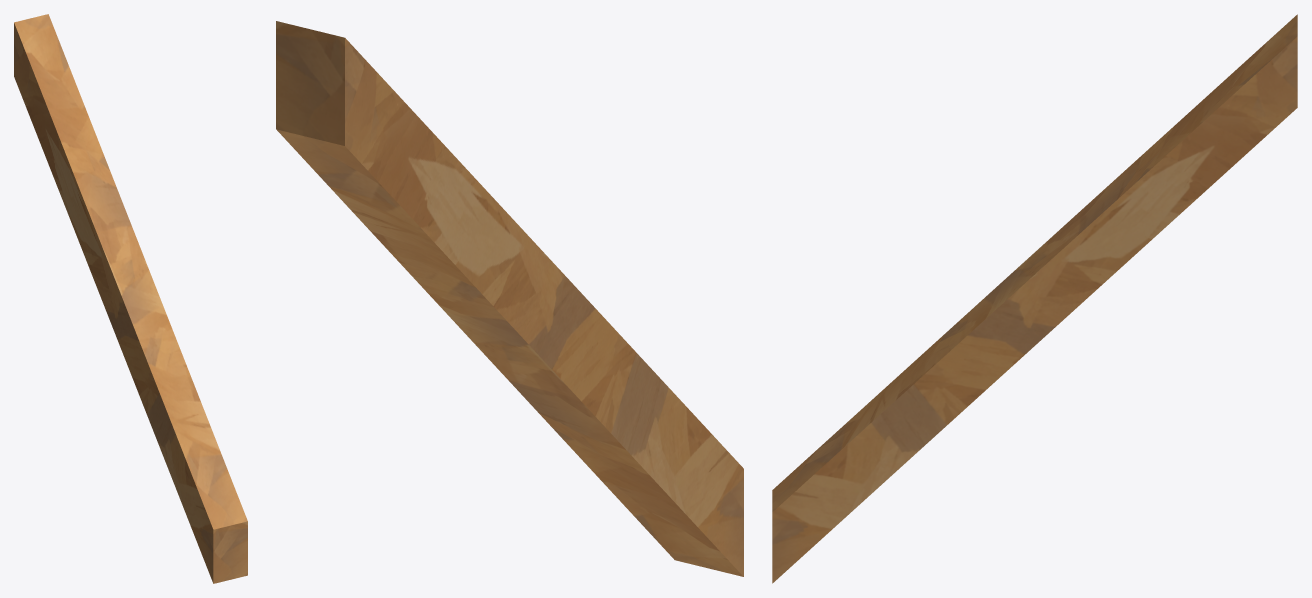
File: RoofRake.fbx
3 renders of one model, left to right at view 1: azimuth 30°, elevation 25°; view 2: azimuth 150°, elevation 25°; view 3: azimuth 270°, elevation 25°, orthographic. The views are drawn at different scales.
Visible parts, largest first — view 1: RoofRake; view 2: RoofRake; view 3: RoofRake.
Part boxes in pixels (bbox=[...]): RoofRake: bbox=[14, 14, 247, 583]; RoofRake: bbox=[276, 21, 743, 576]; RoofRake: bbox=[772, 14, 1297, 583].
Size of the model in its own units: 0.1 by 1.15 by 1.
